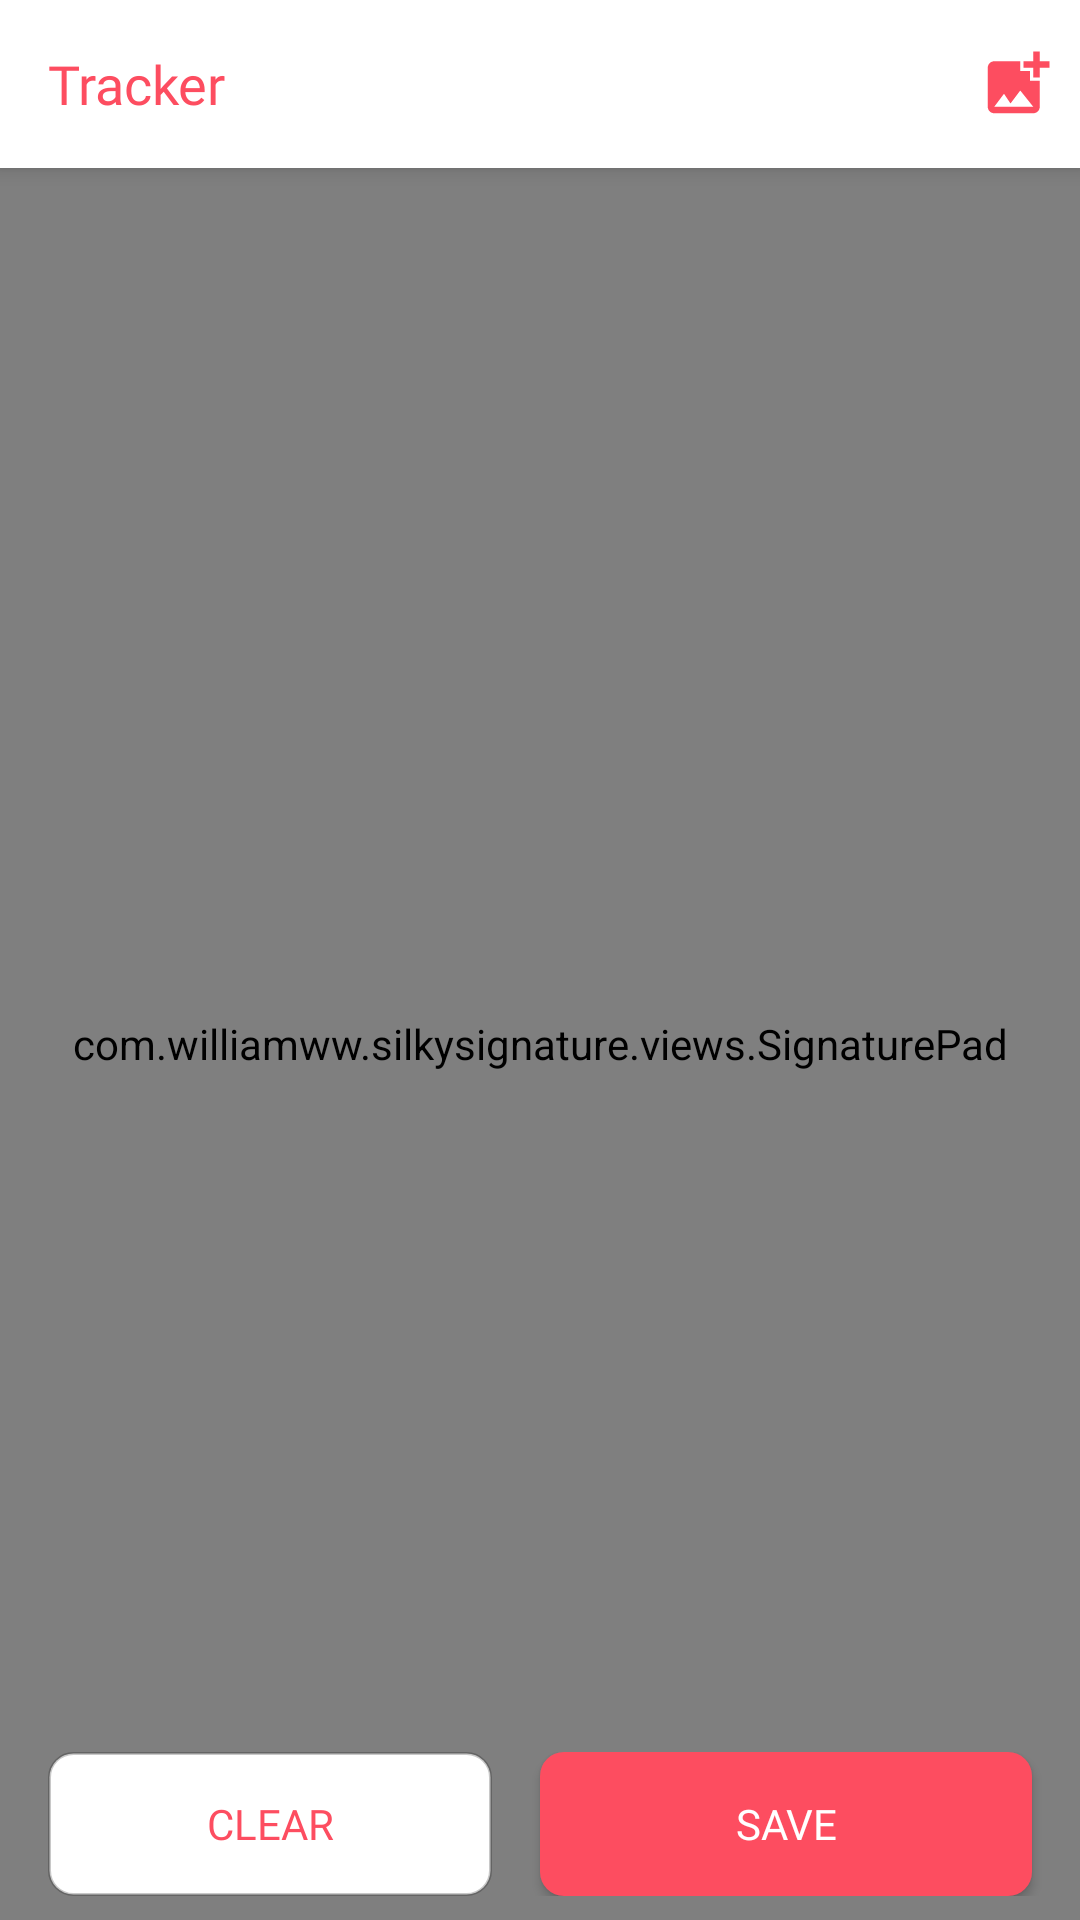

Locate icon controls on the screen. Image size 1080x1920, boxes as (x1, y1, x2, y2).
add photo alternate: (987, 51, 1050, 114)
